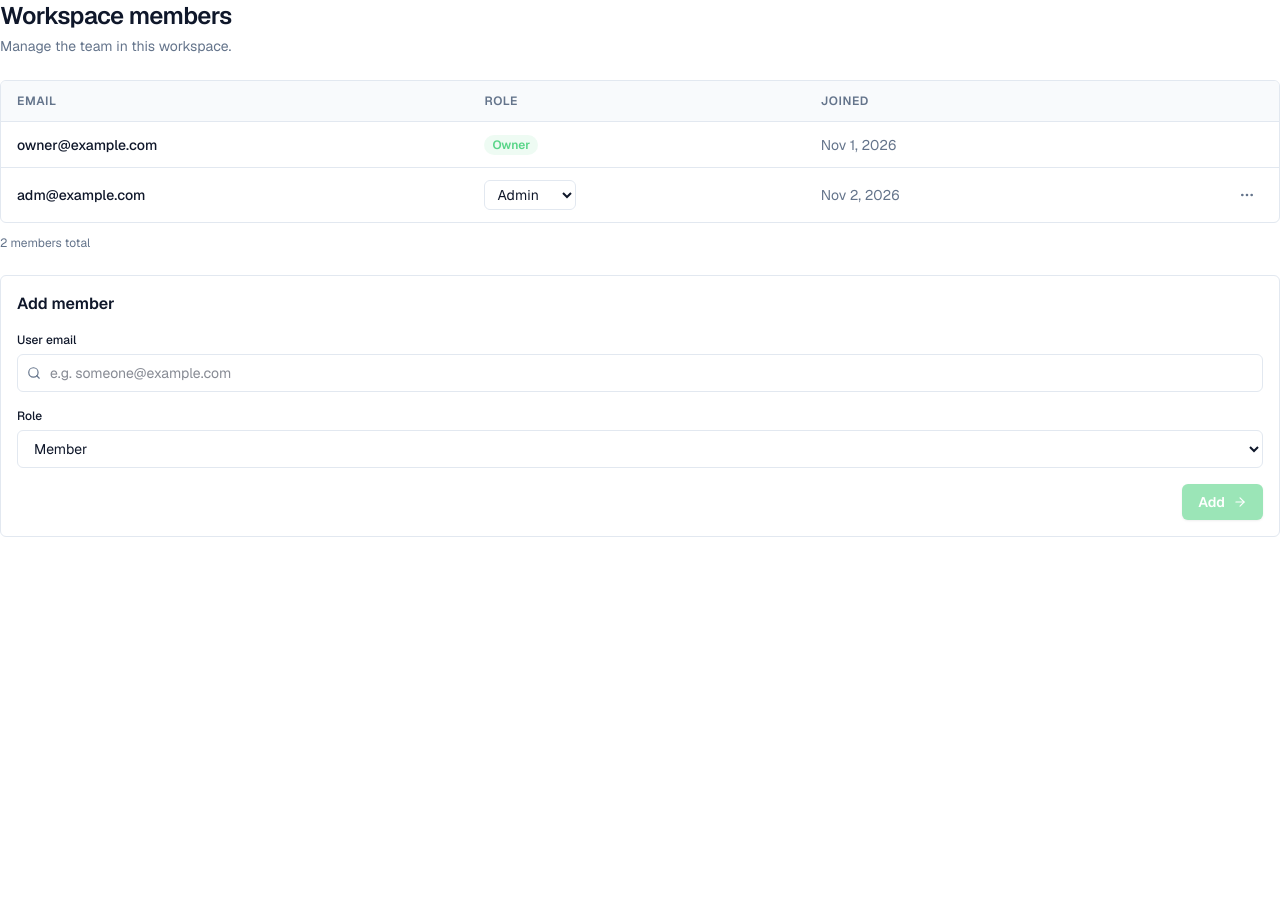
Scenario: MembersSettingsPage › should show the admin-downgrade hint when DELETE returns 422
Check: the text "adm@example.com" is shown, box [1,168,468,222]
Click the button named "Remove member adm@example.com" at x=1247, y=195, box [1231,181,1263,209]
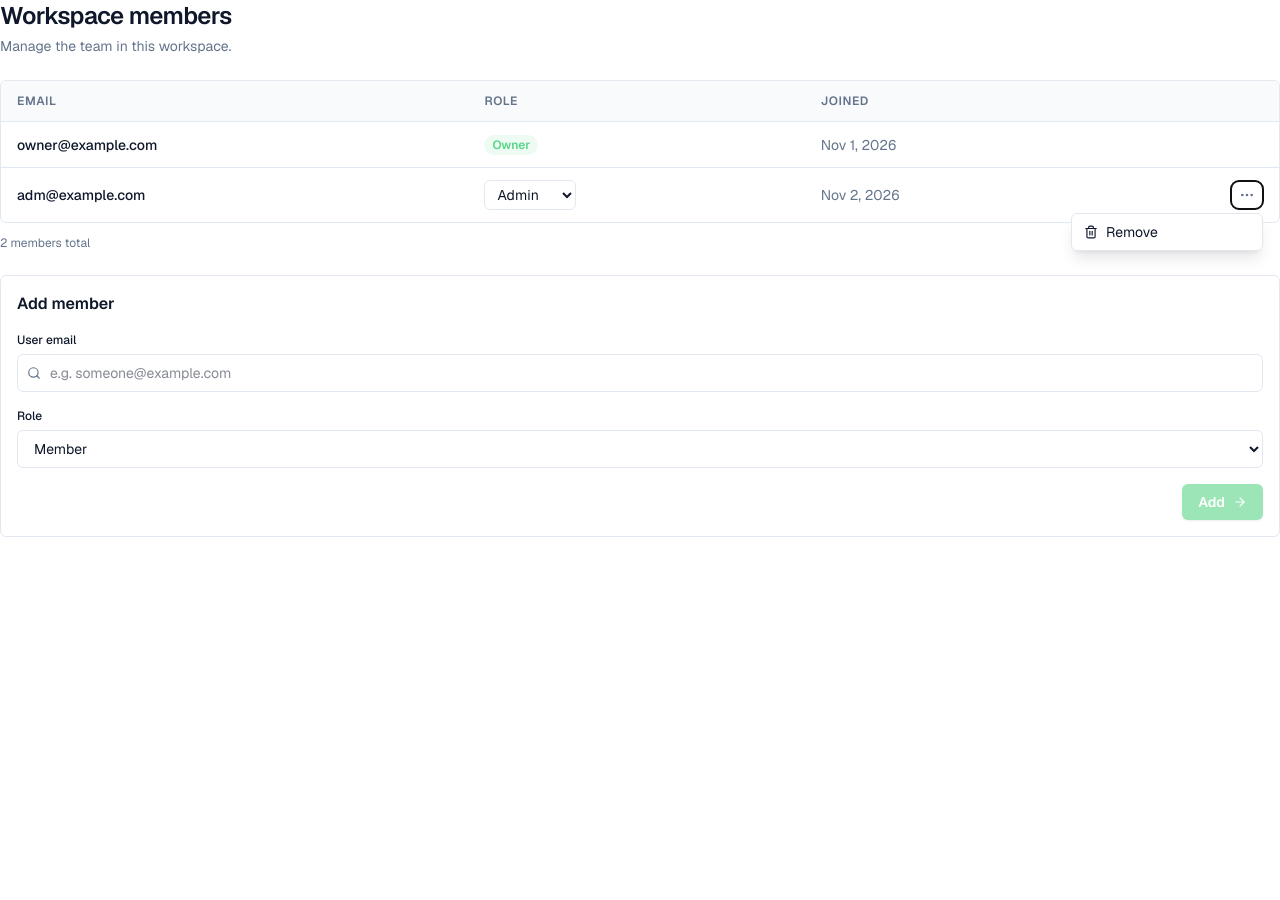
Click the menu item "Remove" at x=1167, y=232, box [1072,214,1262,250]
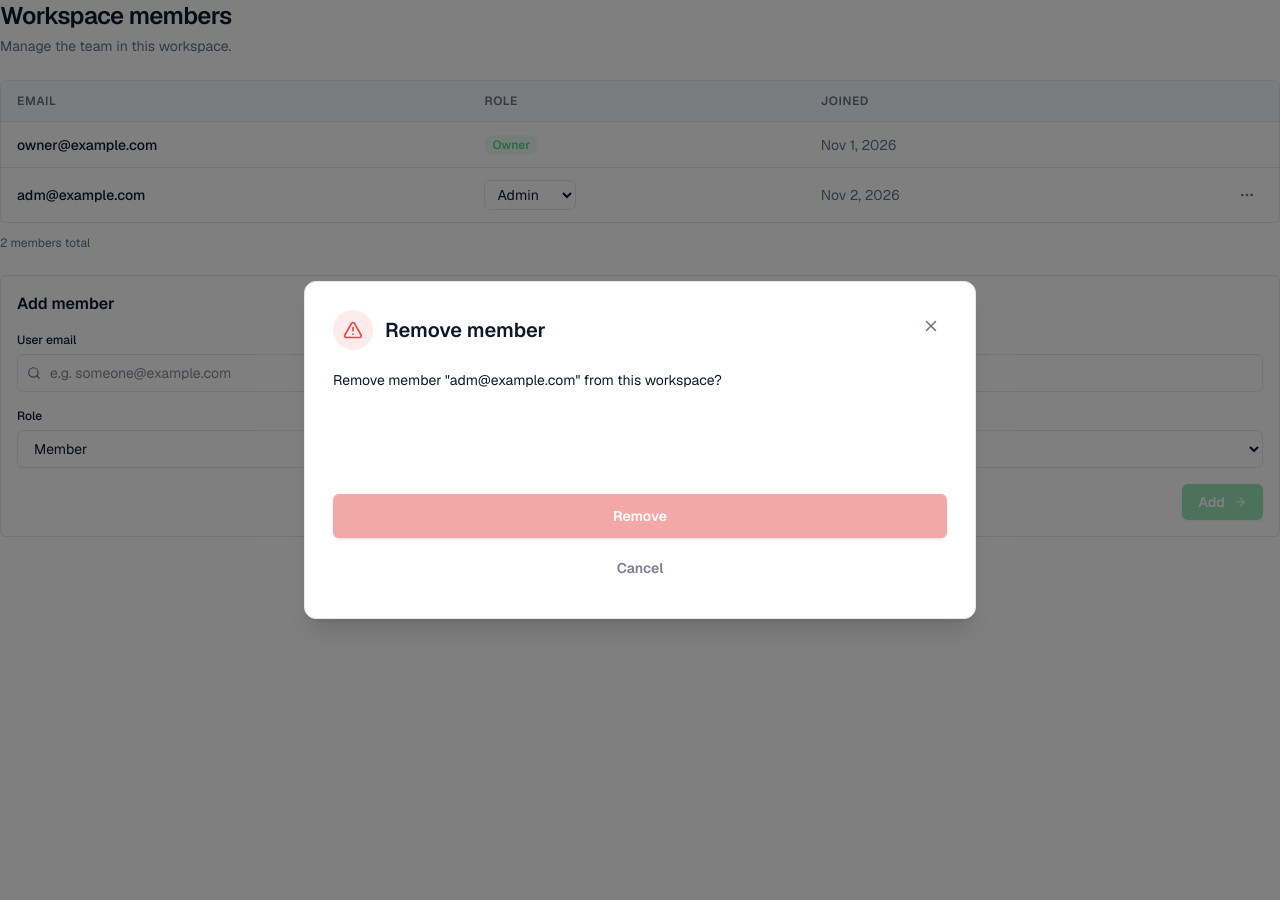
Click the button "Remove" at x=640, y=516, box [333,494,947,538]
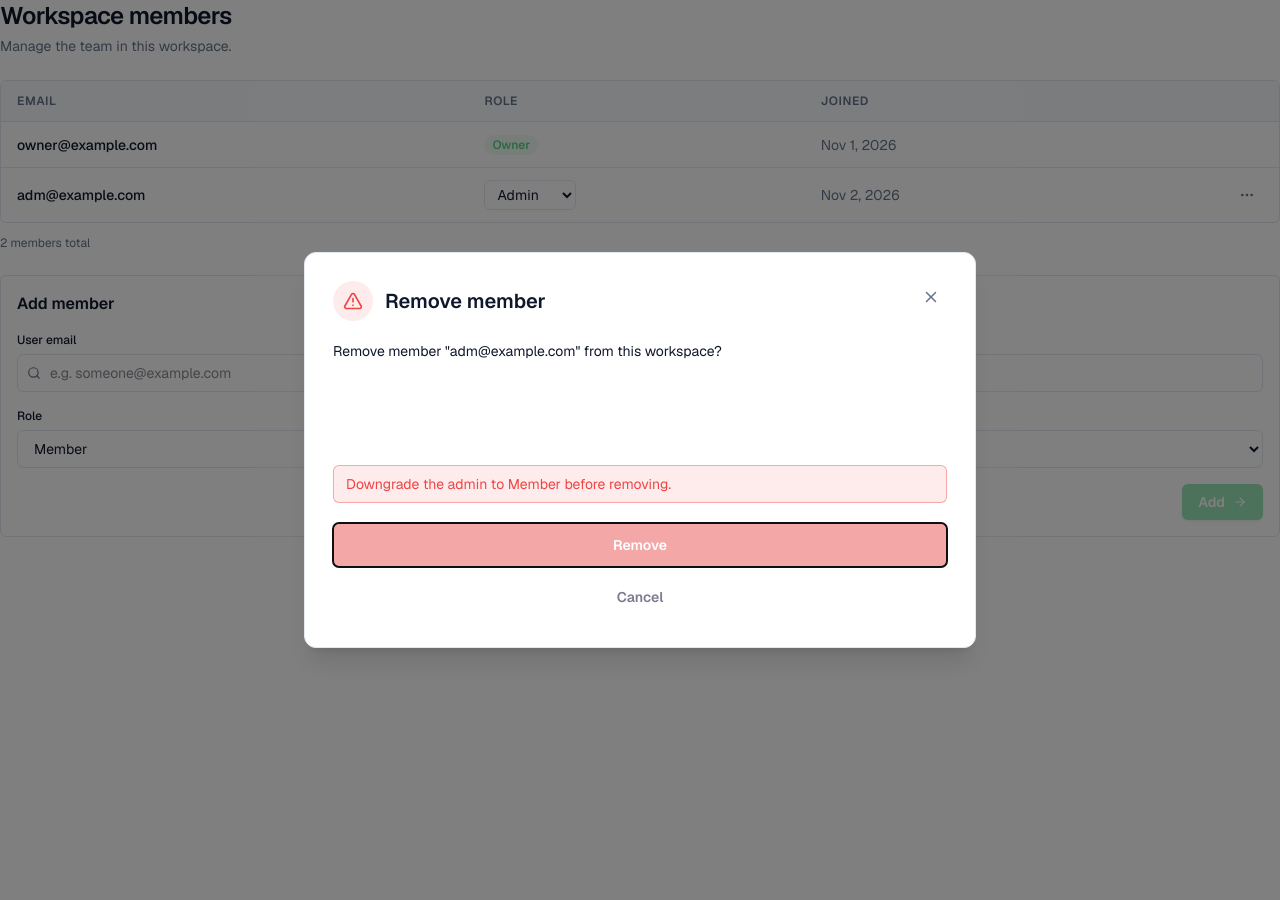
Check: the text "Downgrade the admin to Member before removing." is shown, box [333,465,947,503]
